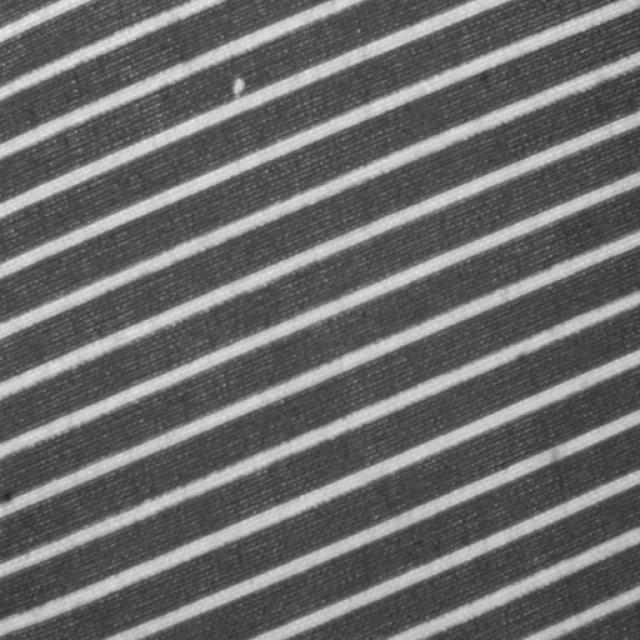Thread-Defect: (222, 76, 256, 102)
